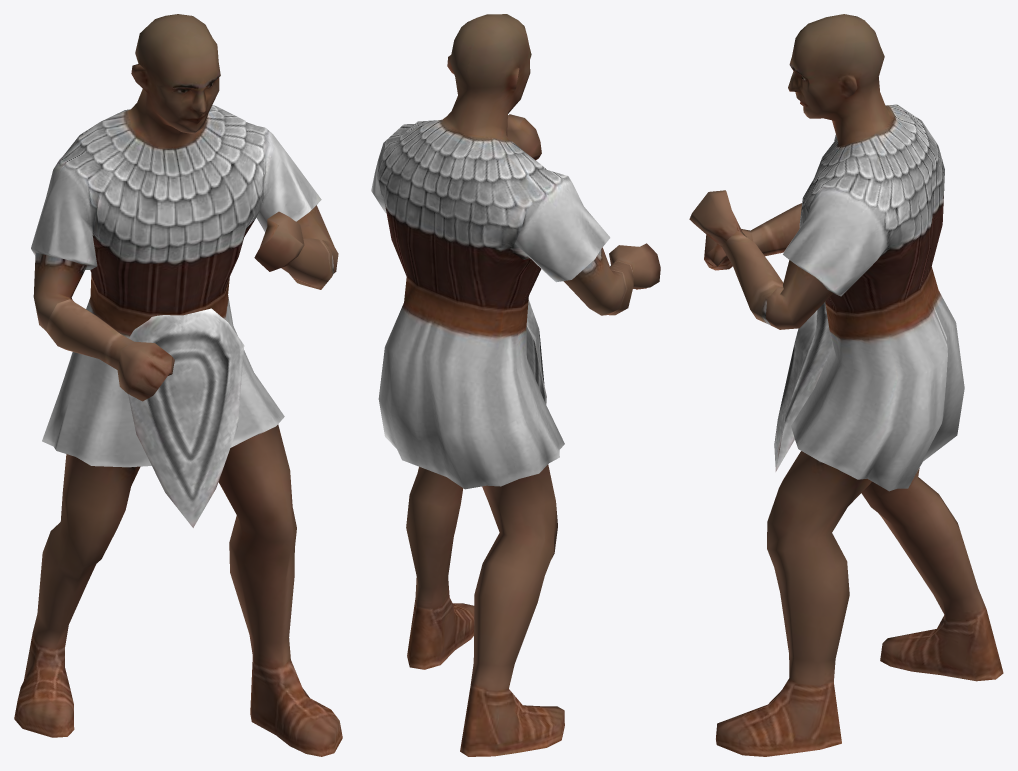
Rendered from body-heavyaxemen.glb.
The picture shows the model from 3 angles, left to right: view 1: azimuth 30°, elevation 25°; view 2: azimuth 150°, elevation 25°; view 3: azimuth 270°, elevation 25°; orthographic projection. The views are drawn at different scales.
Size of the model in its own units: 0.7947 by 1.99 by 0.8269.
Materials: 1 (1 with a texture image).
